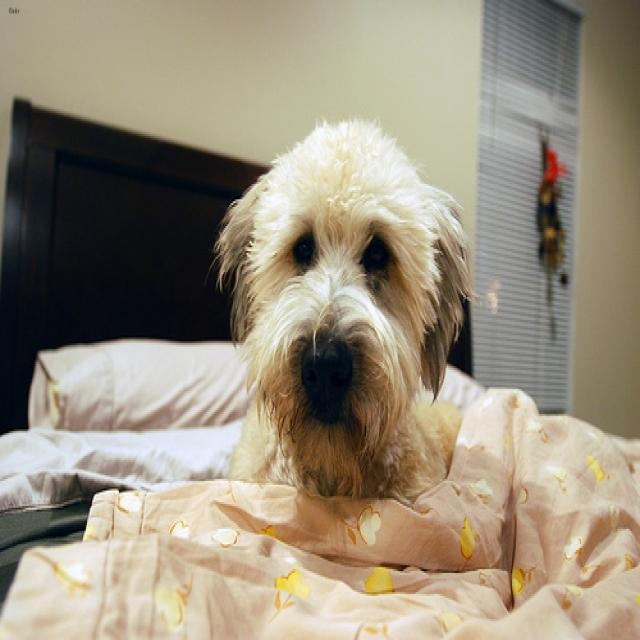dog-wheaten_terrier: (204, 107, 475, 515)
